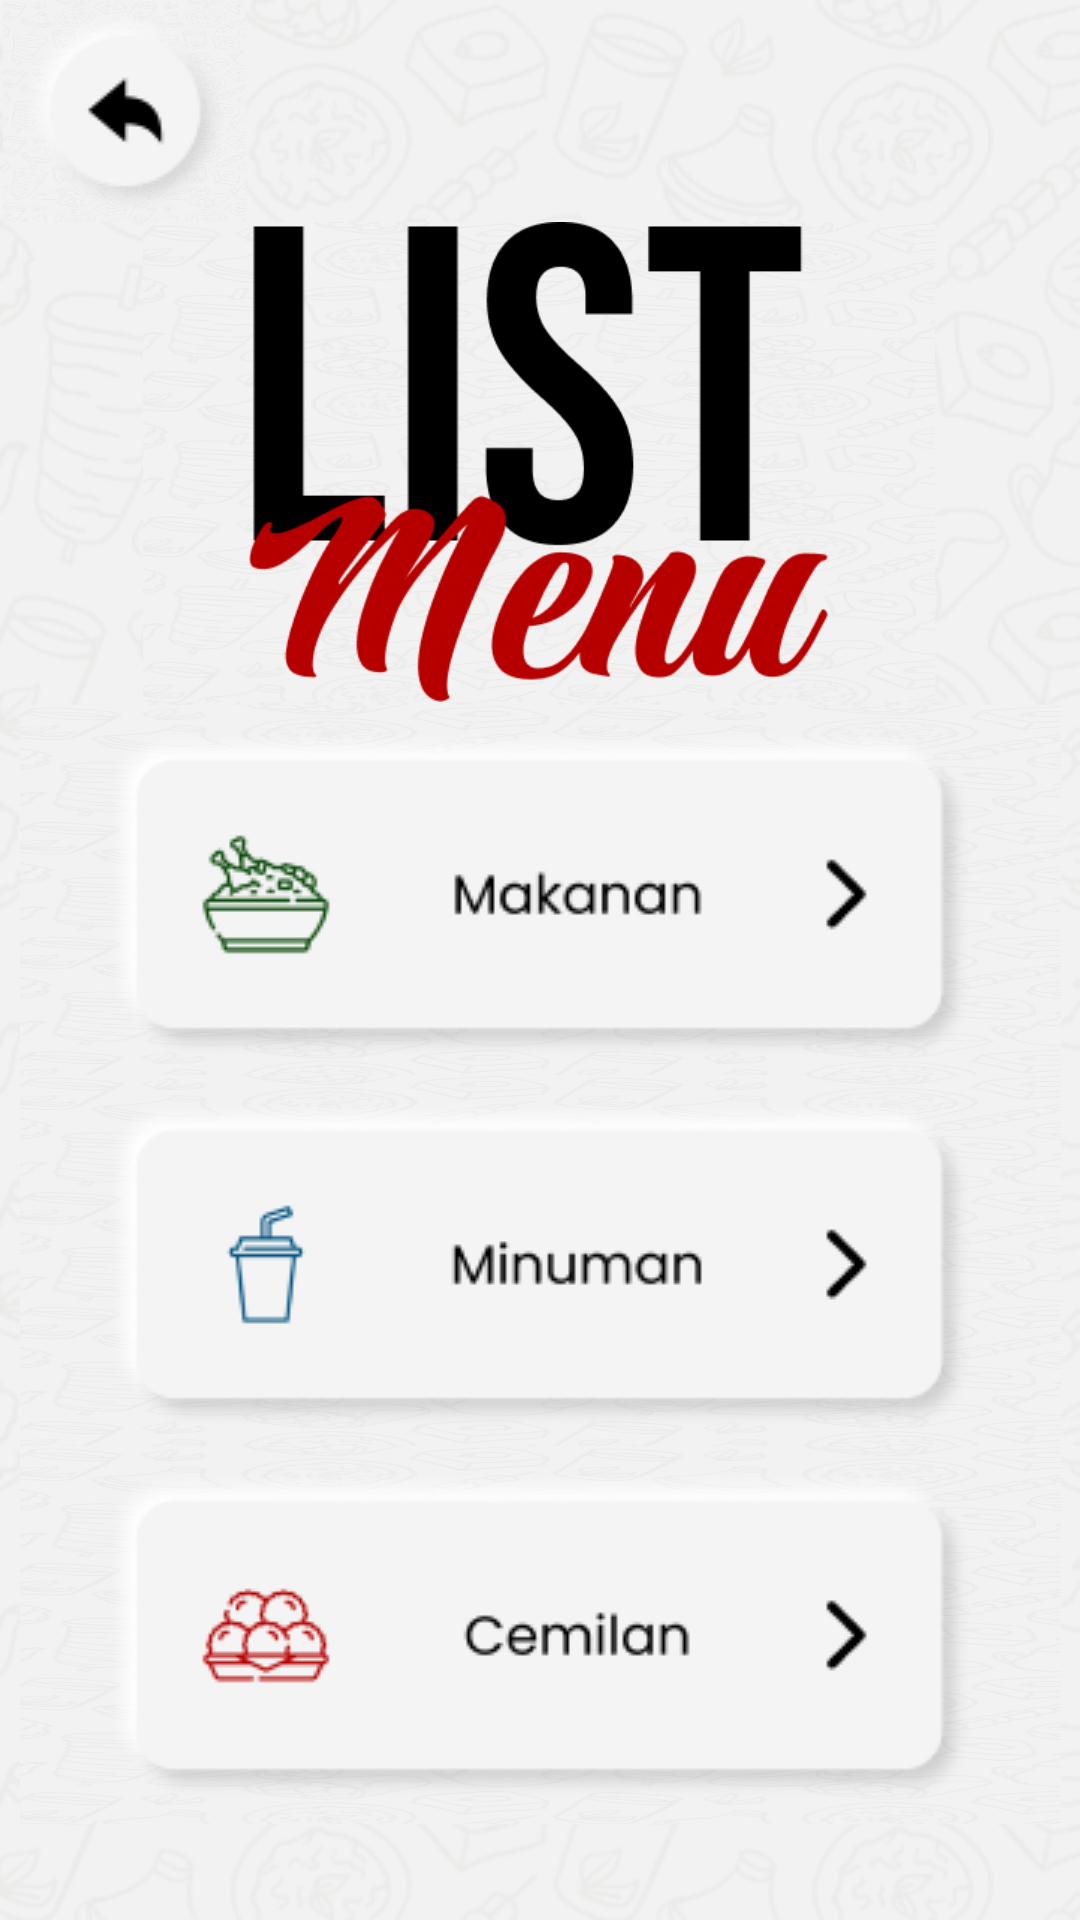

Locate icon controls on the screen. Image size 1080x1920, boxes as (x1, y1, x2, y2).
buttonkembali: (88, 78, 205, 191)
